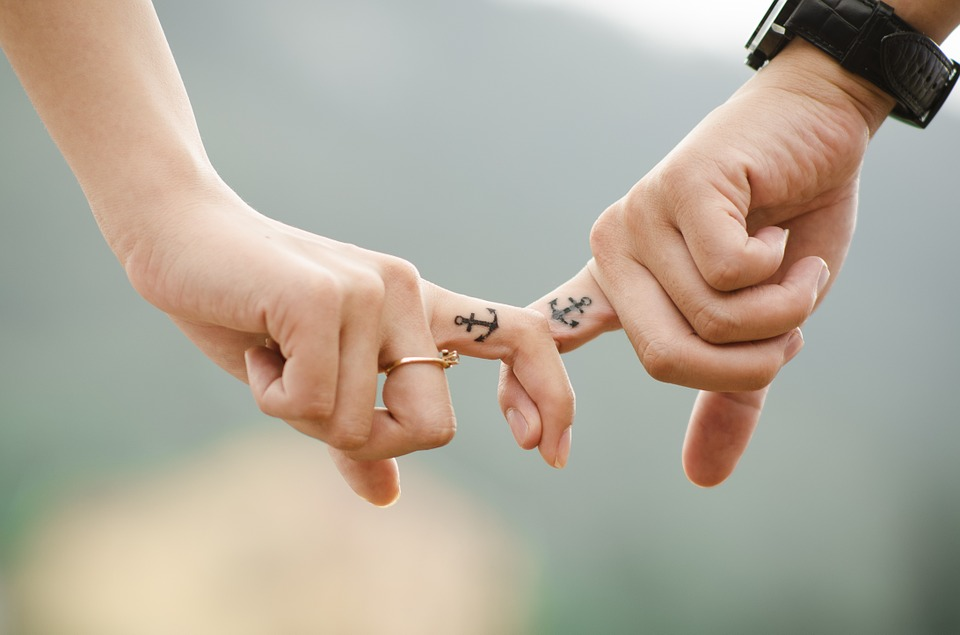finger: (589, 230, 811, 392), (420, 276, 582, 469), (639, 224, 833, 341), (497, 257, 604, 459), (366, 262, 461, 471), (269, 295, 376, 452), (237, 290, 337, 428), (691, 200, 791, 281)
